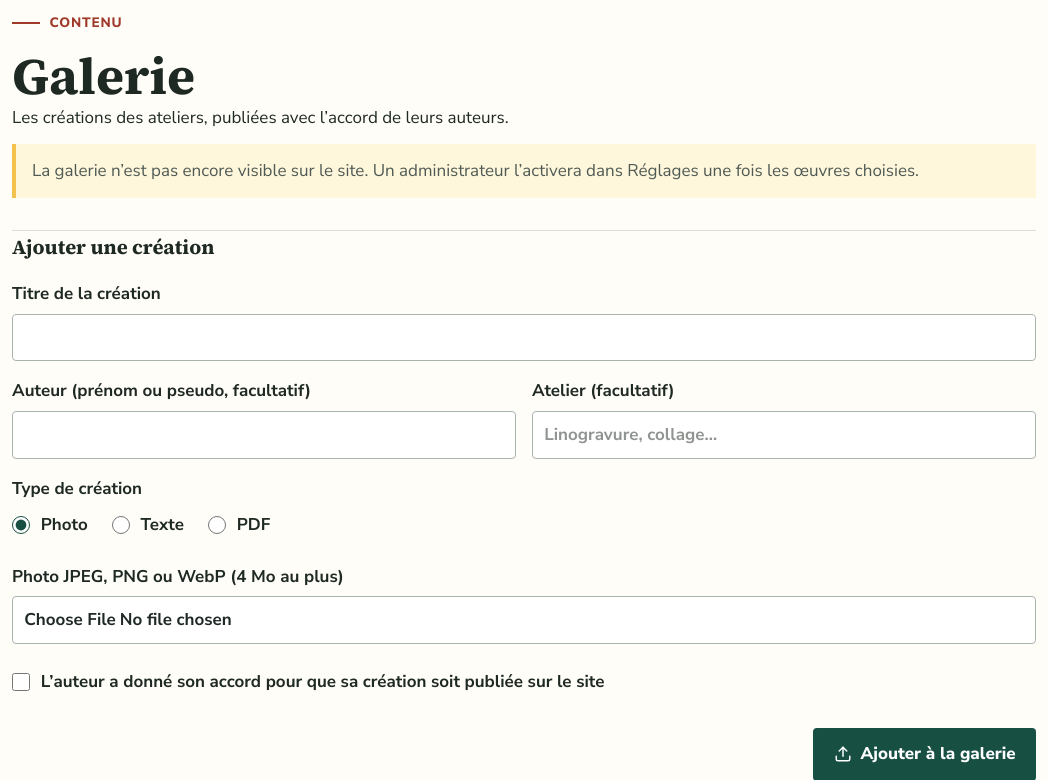
Test case: asks for the words or the file depending on the kind of creation
Step 1. Click the radio button labelled "Texte" → (121, 525), box [112,503,130,547]
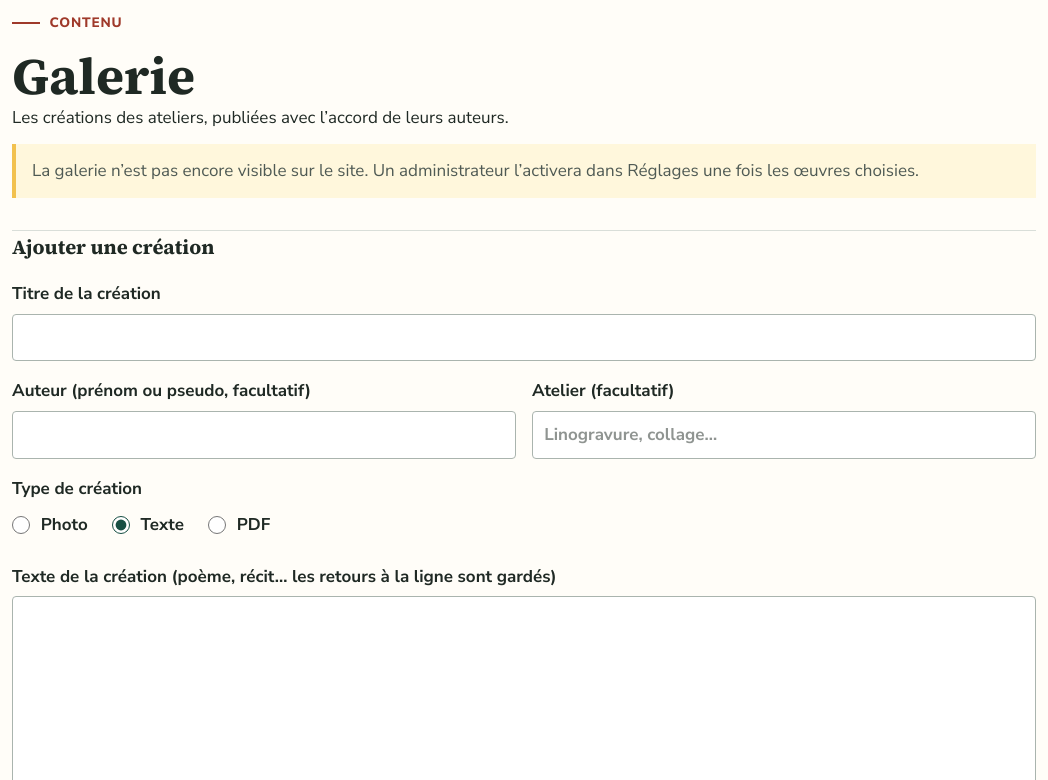
Check: the label labelled "Photo JPEG" is gone
Step 2. Click the radio button labelled "PDF" → (217, 525), box [208,503,226,547]
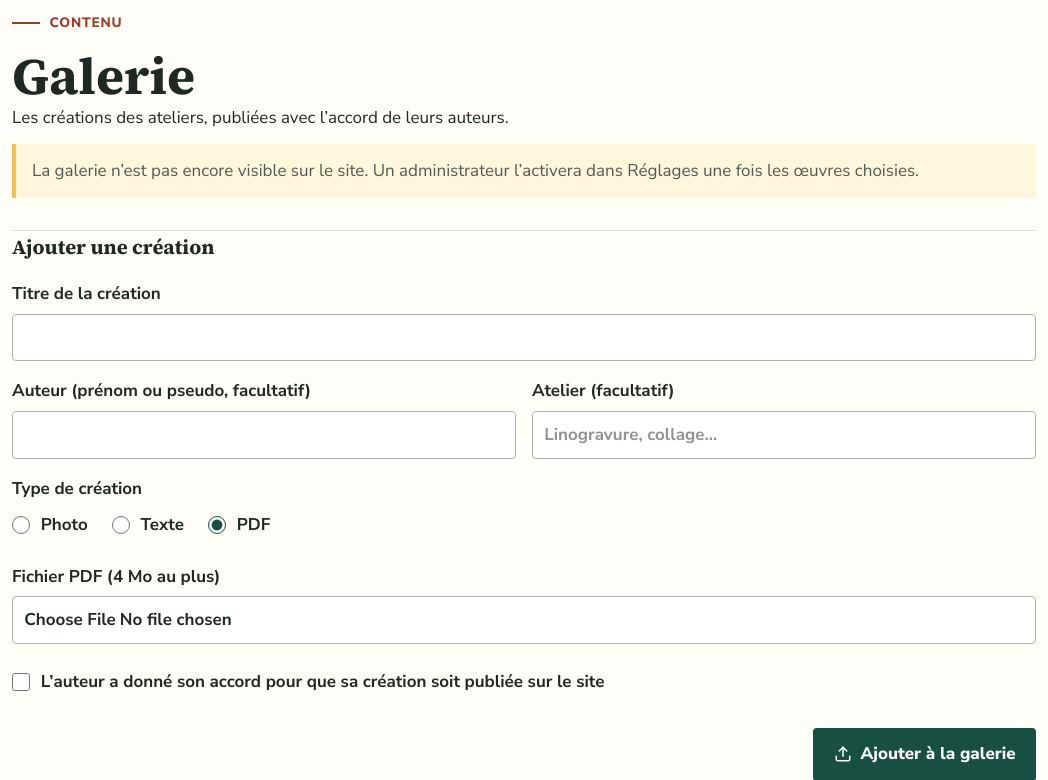
Check: the file field labelled "Fichier PDF (4 Mo au plus)" has attribute accept="application/pdf", box [12,596,1036,644]
